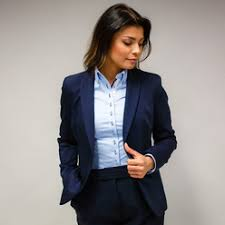F_W_suit jacket: (55, 63, 184, 207)
